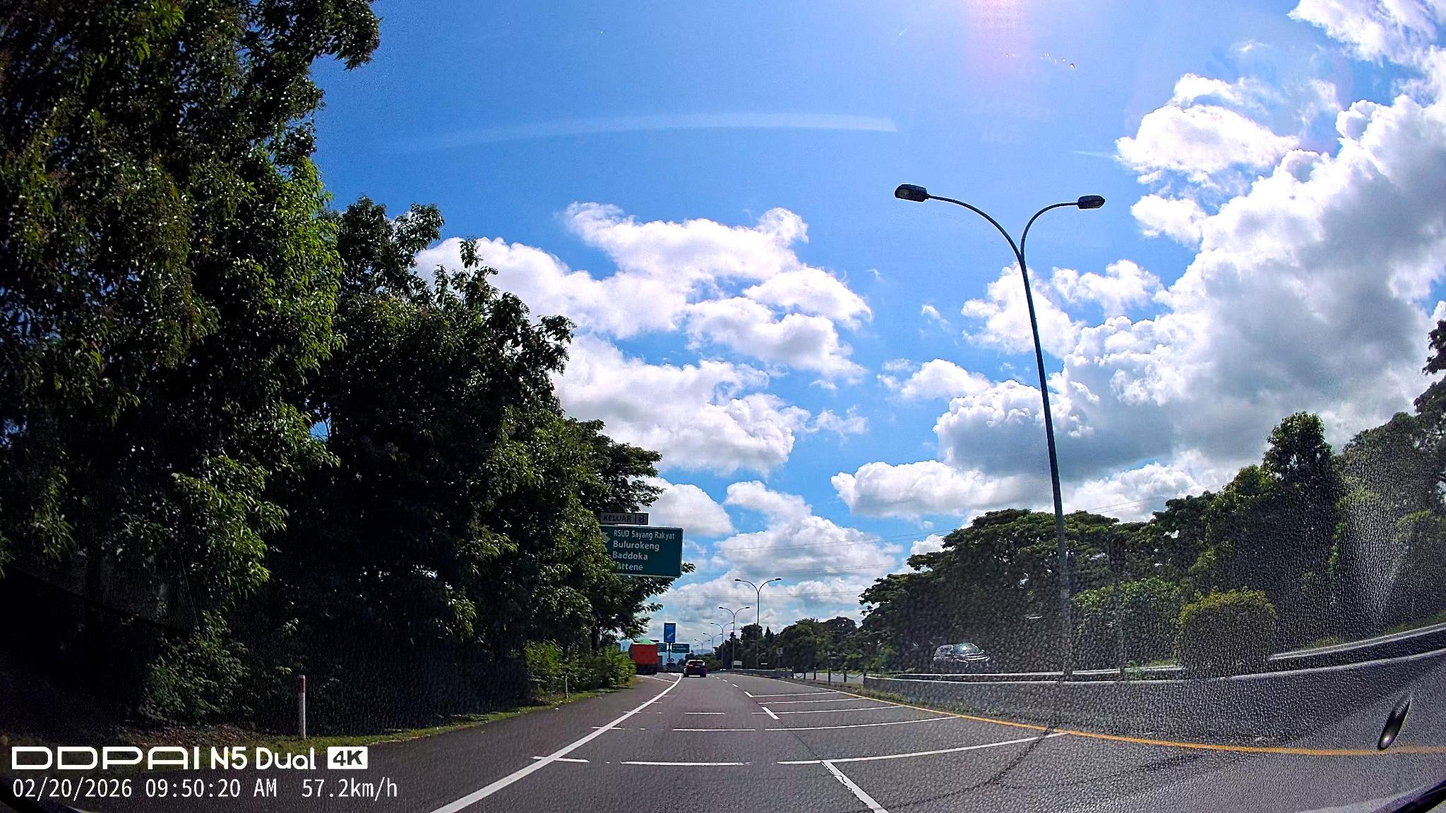rambu_teks: (603, 524, 684, 578)
